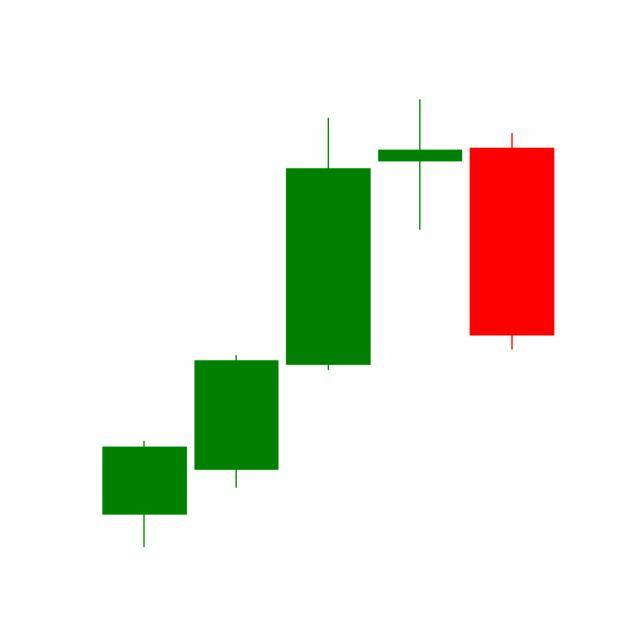Advance Block: (190, 99, 467, 492)
